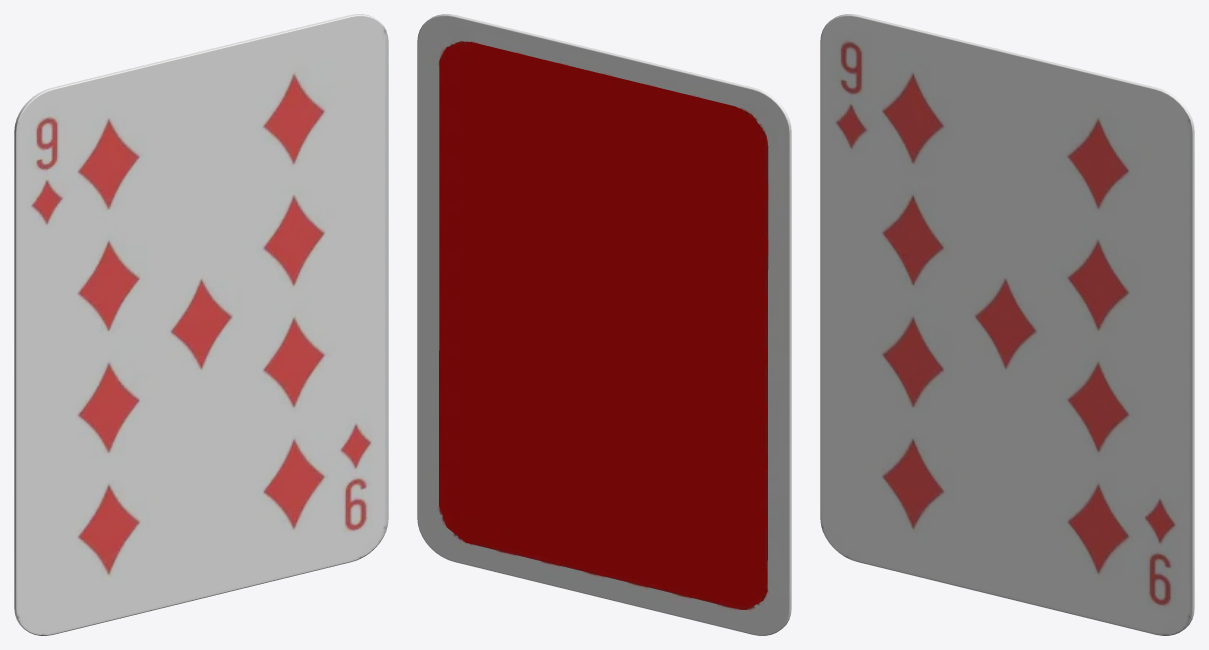
The model's file is diamonds_9.glb.
3 views of the same model, side by side, from view 1: azimuth 30°, elevation 25°; view 2: azimuth 150°, elevation 25°; view 3: azimuth 330°, elevation 25° (orthographic).
Parts seen in each view (by area): view 1: defaultMaterial.027; view 2: defaultMaterial.027; view 3: defaultMaterial.027.
Boxes of the visible parts, bbox=[...] form: defaultMaterial.027: bbox=[14, 14, 388, 635]; defaultMaterial.027: bbox=[417, 14, 791, 635]; defaultMaterial.027: bbox=[820, 14, 1194, 635].
Bounding box in the file's own units: 0.1408 × 0.1972 × 0.00111.
Materials: 1 (1 with a texture image).
